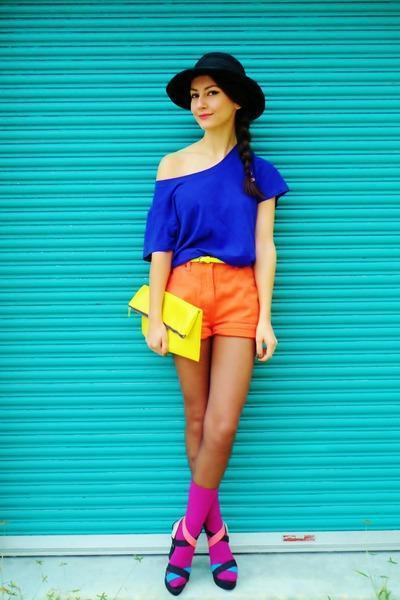Shorts: (157, 255, 271, 338)
short sleeve shirt: (142, 143, 292, 271)
